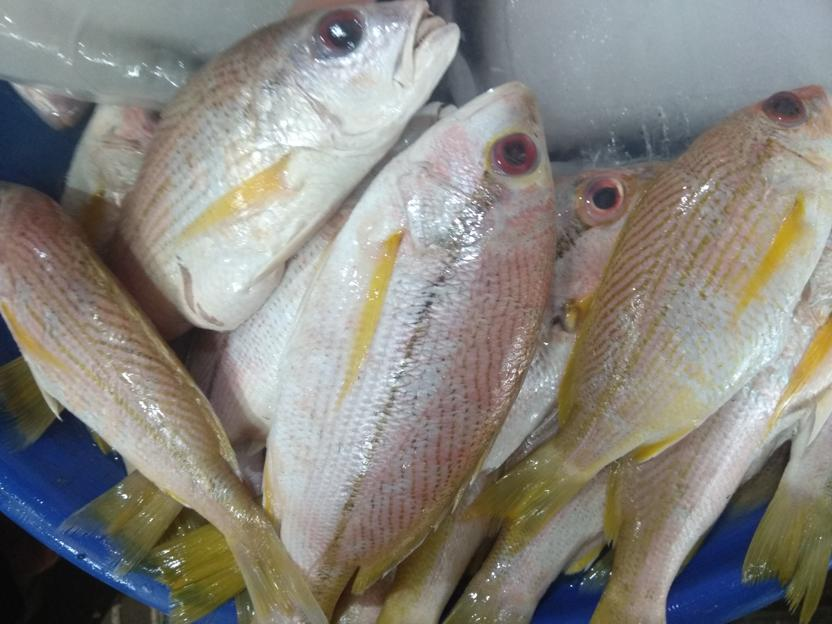Fish head: (270, 1, 461, 152), (403, 81, 556, 256), (556, 160, 670, 297), (739, 83, 832, 193)
Fish tail: (457, 446, 593, 557), (52, 469, 185, 582), (742, 477, 830, 622), (144, 524, 247, 624), (1, 358, 65, 457)
